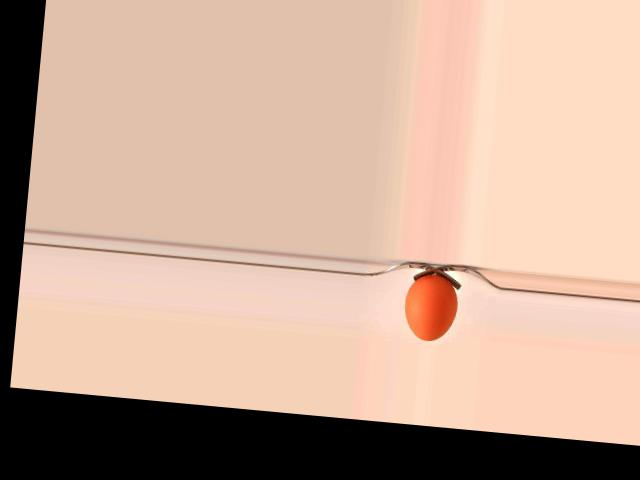egg: (401, 271, 459, 342)
